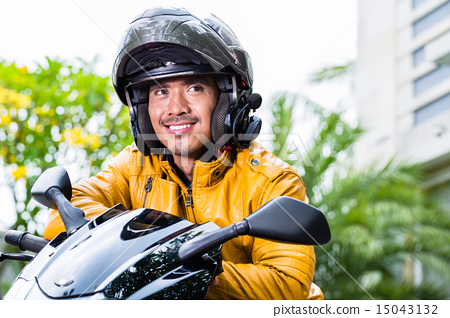helmet: (119, 14, 255, 155)
